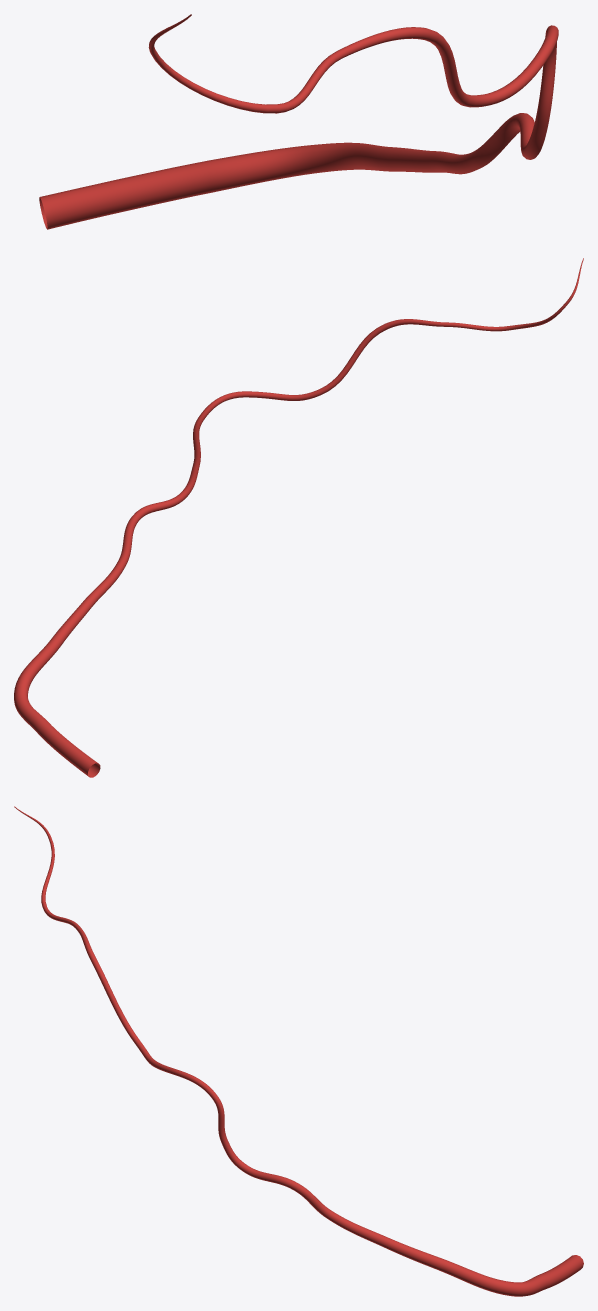
3 renders of one model, top to bottom at view 1: azimuth 30°, elevation 25°; view 2: azimuth 150°, elevation 25°; view 3: azimuth 270°, elevation 25°, orthographic. The views are drawn at different scales.
Visible parts, largest first — view 1: 左侧中央沟动脉; view 2: 左侧中央沟动脉; view 3: 左侧中央沟动脉.
Boxes of the visible parts, <box> form: 左侧中央沟动脉: <box>39,14,558,229</box>; 左侧中央沟动脉: <box>14,258,583,777</box>; 左侧中央沟动脉: <box>14,806,583,1296</box>.
Size of the model in its own units: 0.0733 by 0.0771 by 0.1096.
